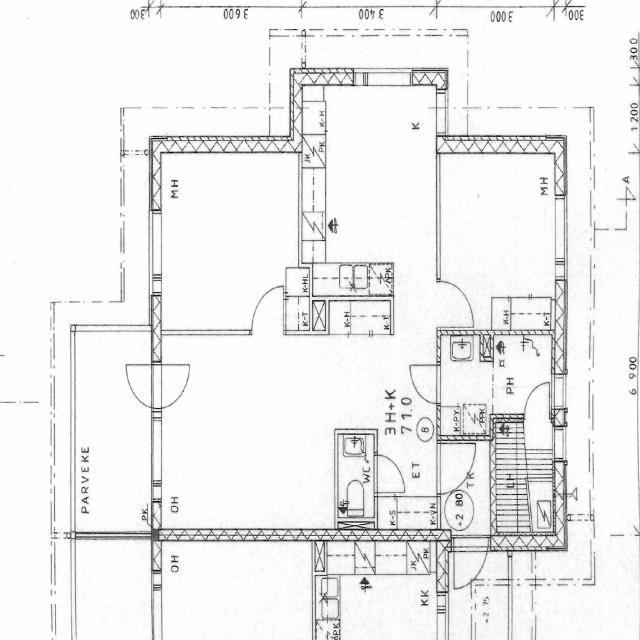door: (453, 533, 488, 599), (436, 444, 476, 494), (150, 365, 192, 408), (120, 365, 162, 408), (436, 282, 474, 328), (252, 286, 283, 335), (409, 365, 441, 403), (374, 454, 404, 492), (524, 379, 550, 422)
